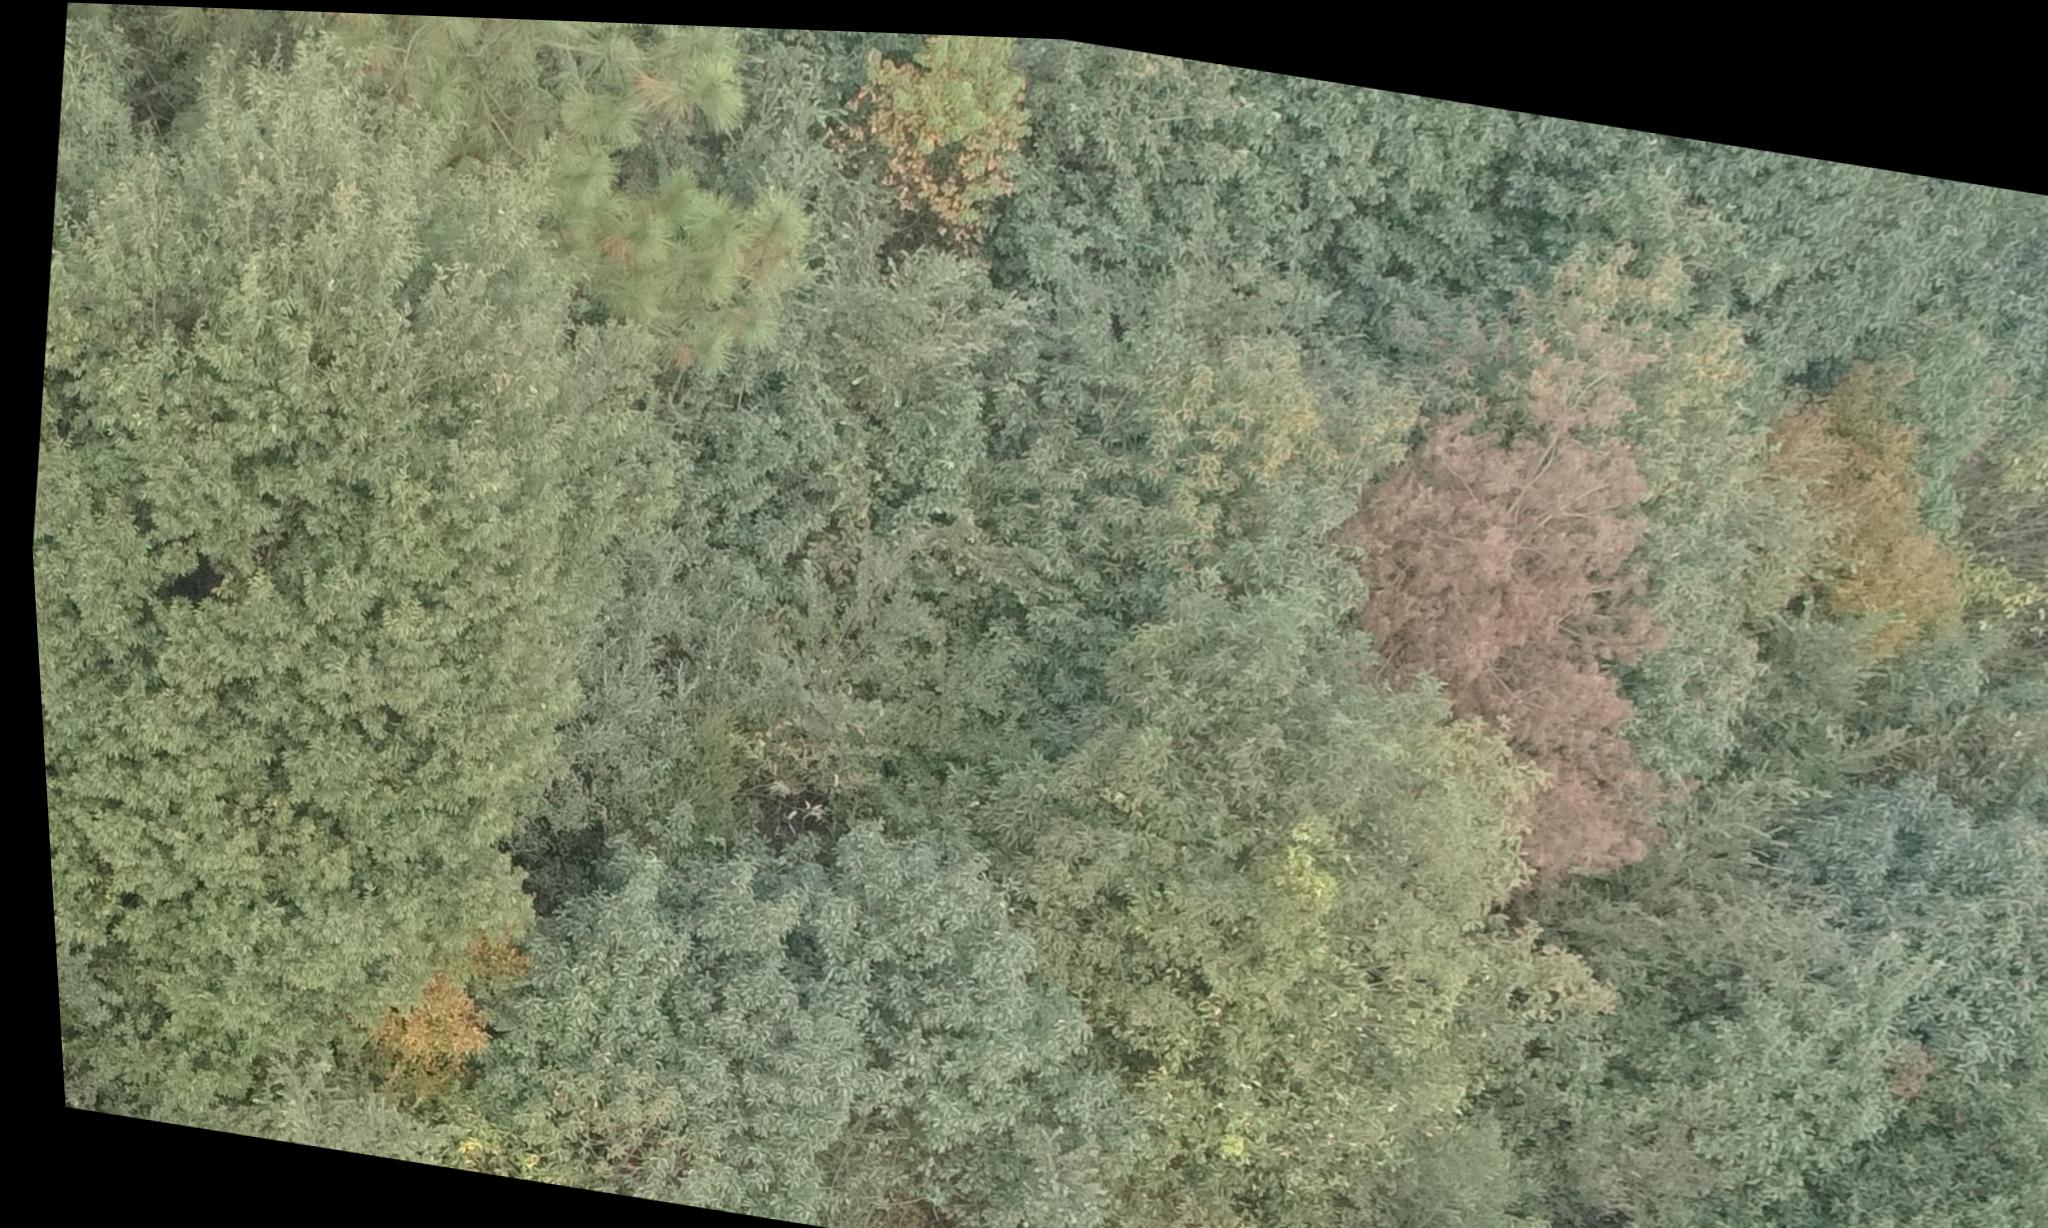heavy: (1254, 289, 1704, 908)
light: (465, 13, 823, 395), (833, 25, 1048, 256)
